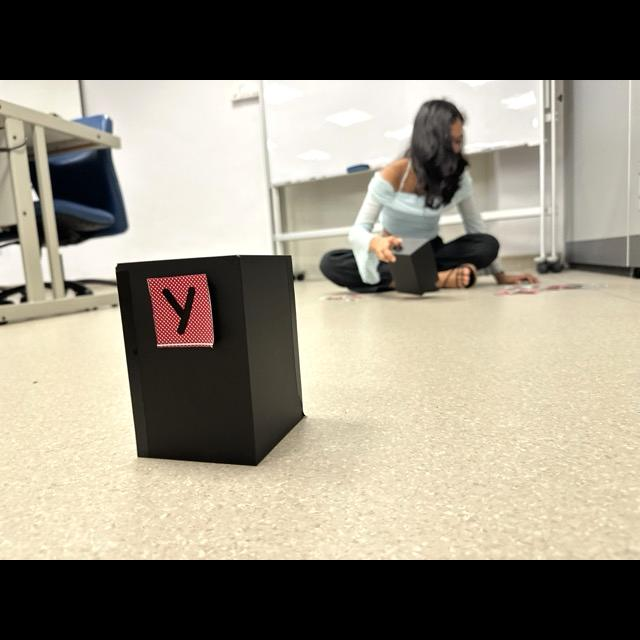Y: (162, 287, 194, 334)
